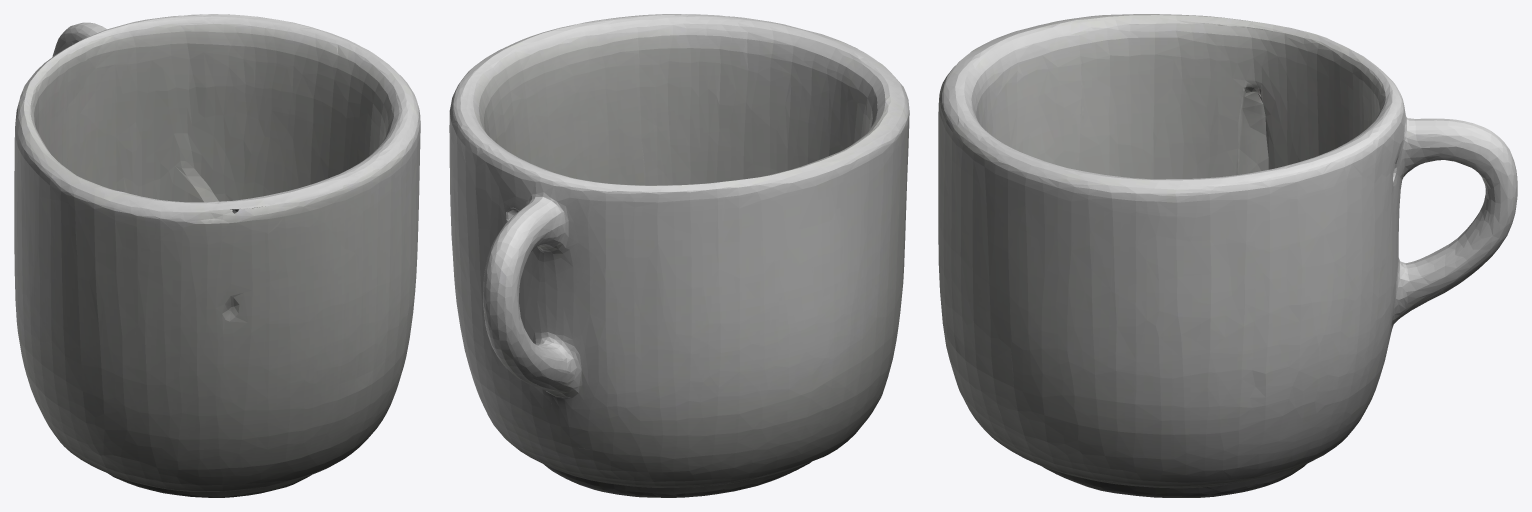
File: item_empty_cup_2.glb
3 views of the same model, side by side, from view 1: azimuth 30°, elevation 25°; view 2: azimuth 150°, elevation 25°; view 3: azimuth 270°, elevation 25° (orthographic). The views are drawn at different scales.
Parts seen in each view (by area): view 1: geometry_0; view 2: geometry_0; view 3: geometry_0.
Boxes of the visible parts, x1,y1,x2,y2 form: geometry_0: [14, 14, 420, 497]; geometry_0: [449, 14, 909, 497]; geometry_0: [938, 14, 1517, 497].
Size of the model in its own units: 0.7684 by 0.6716 by 0.999.
Materials: 1 (1 with a texture image).
